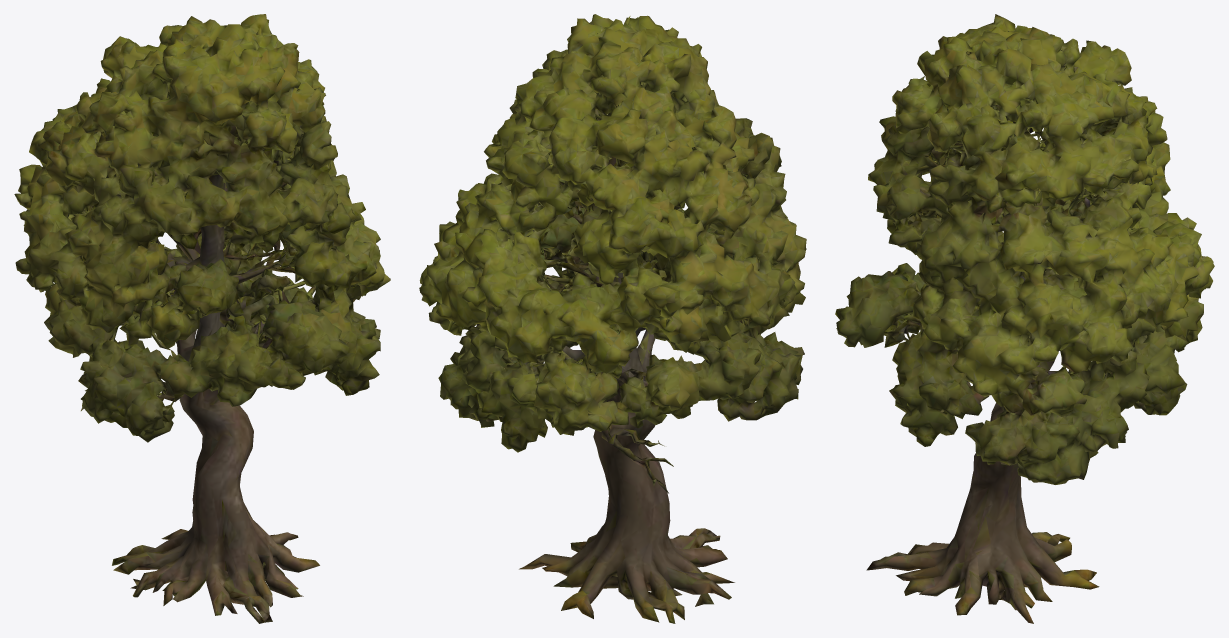
The model's file is A_towering_ancient_oa.glb.
The picture shows the model from 3 angles, left to right: view 1: azimuth 30°, elevation 25°; view 2: azimuth 150°, elevation 25°; view 3: azimuth 270°, elevation 25°; orthographic projection.
Visible parts, largest first — view 1: A_towering_ancient_oa; view 2: A_towering_ancient_oa; view 3: A_towering_ancient_oa.
Part boxes in pixels (x1,y1,x2,y2): A_towering_ancient_oa: [14, 14, 390, 623]; A_towering_ancient_oa: [419, 14, 806, 623]; A_towering_ancient_oa: [835, 14, 1214, 623].
Size of the model in its own units: 1.23 by 1.9 by 1.18.
Materials: 1 (1 with a texture image).
